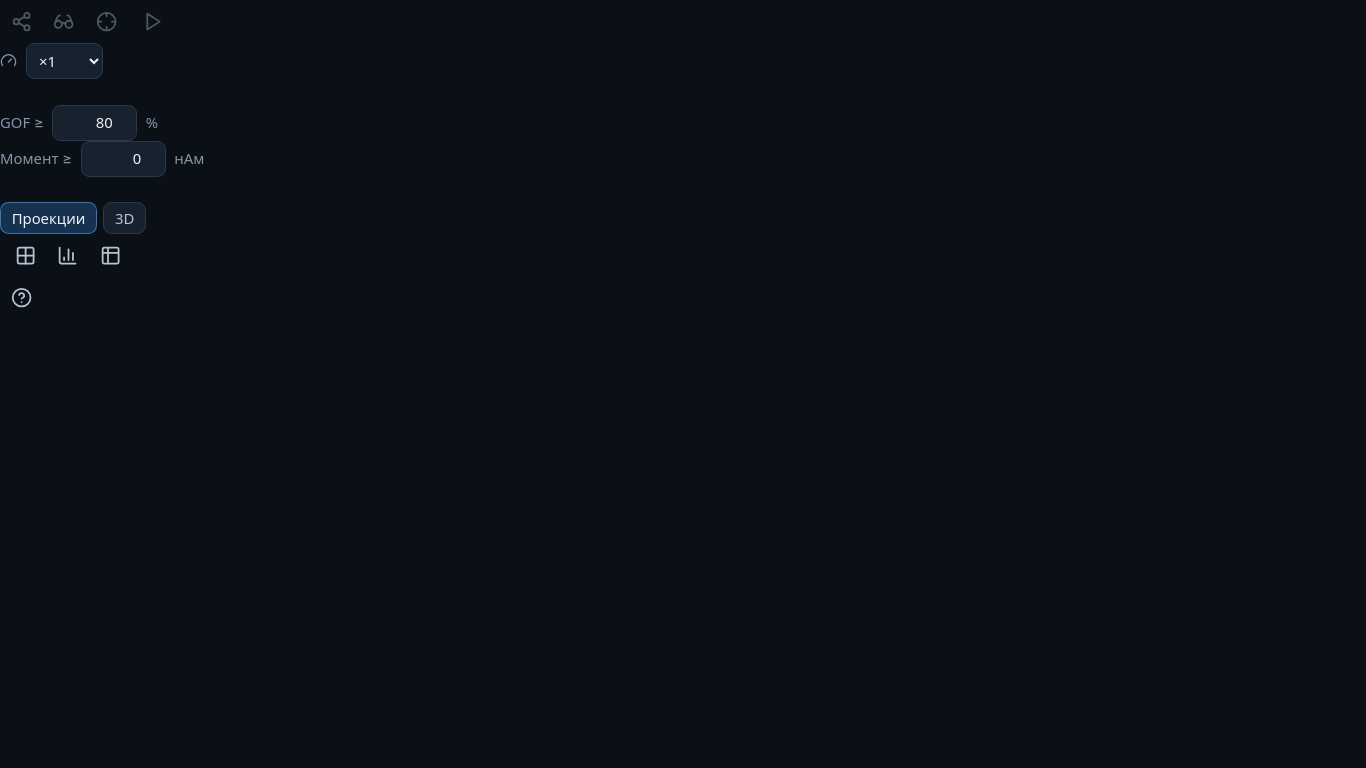
Test: тулс-хедер раздела «Диполи» › открывает справку кнопкой и закрывает её Esc — без запросов
The width and height of the screenshot is (1366, 768).
Click the button named "Справка" at (21, 298), box x1=0 y1=276 x2=42 y2=319
(page scrolled)
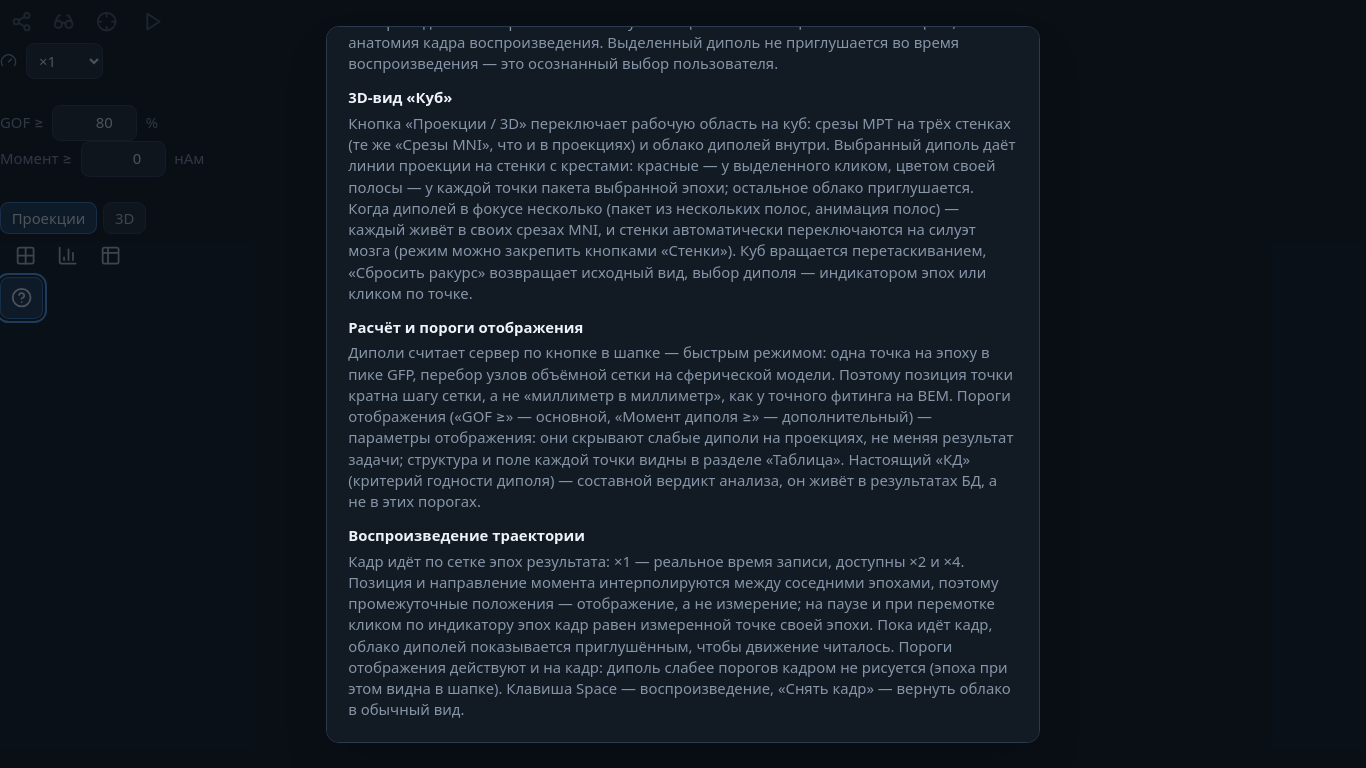
Check: the text "перебор узлов объёмной сетки" is shown, box x1=348 y1=342 x2=1014 y2=511
Check: the text "Кадр идёт по сетке эпох результата" is shown, box x1=348 y1=551 x2=1011 y2=720
Press Escape
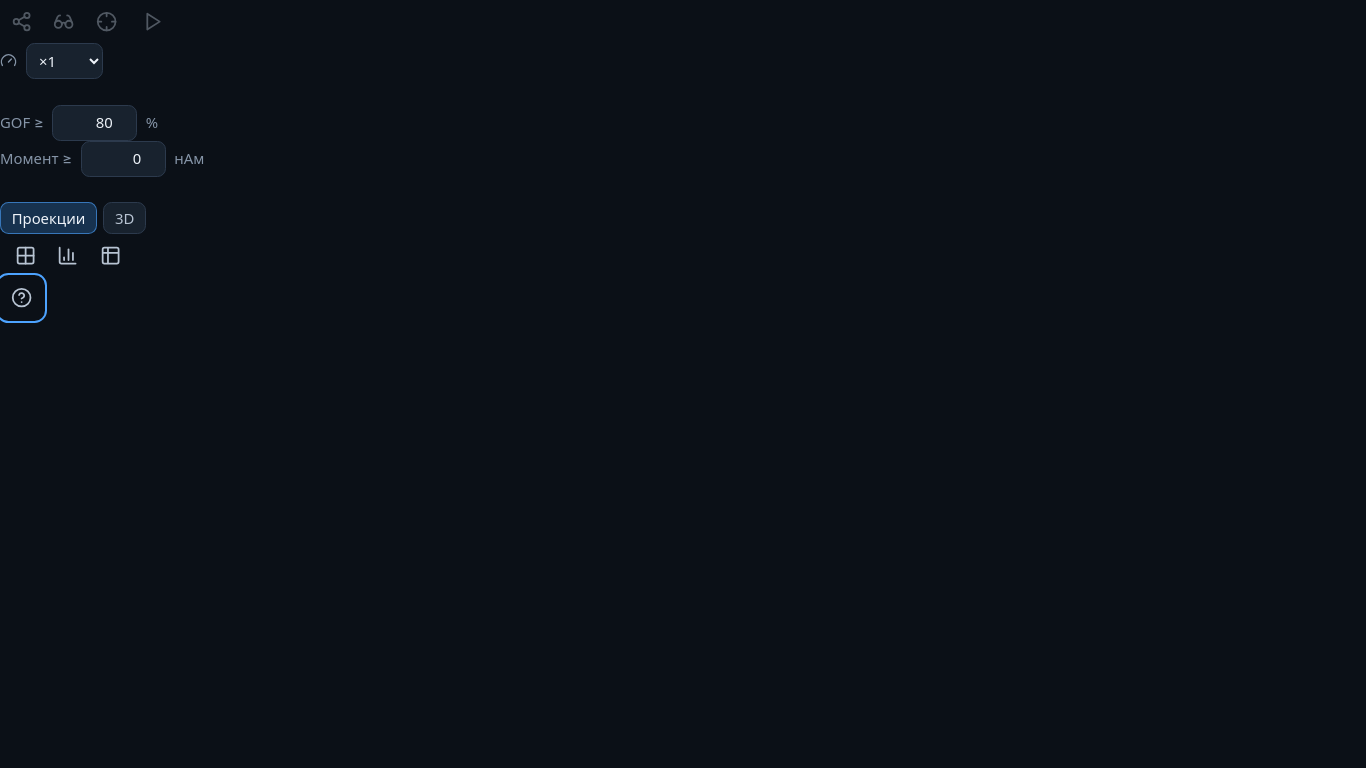
Check: the dialog with test id "dipoles-help-dialog" is gone
Note: Повторное открытие и закрытие кнопкой — тоже без запросов
Click the button named "Справка" at (21, 298), box x1=0 y1=276 x2=42 y2=319
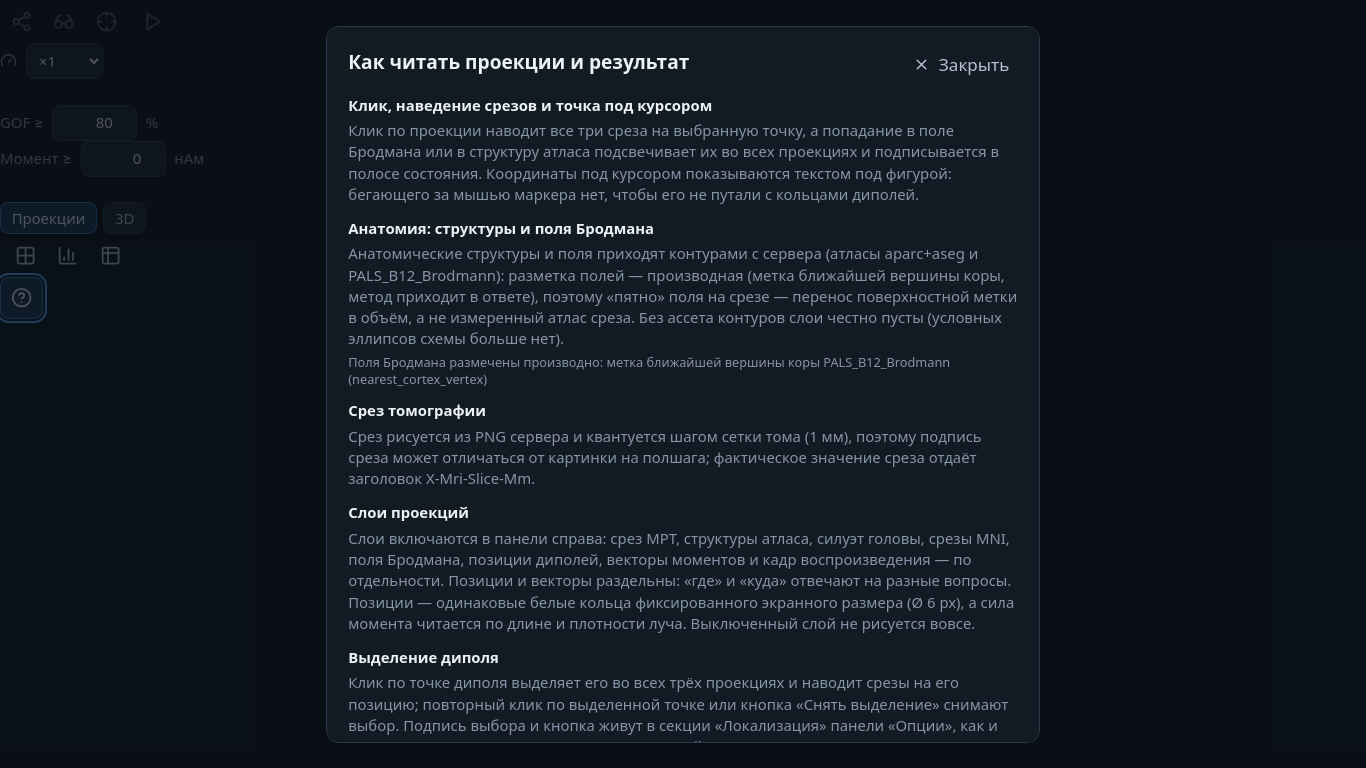
Click the button with aria-label "Закрыть справку" at (961, 65), box x1=905 y1=48 x2=1018 y2=82
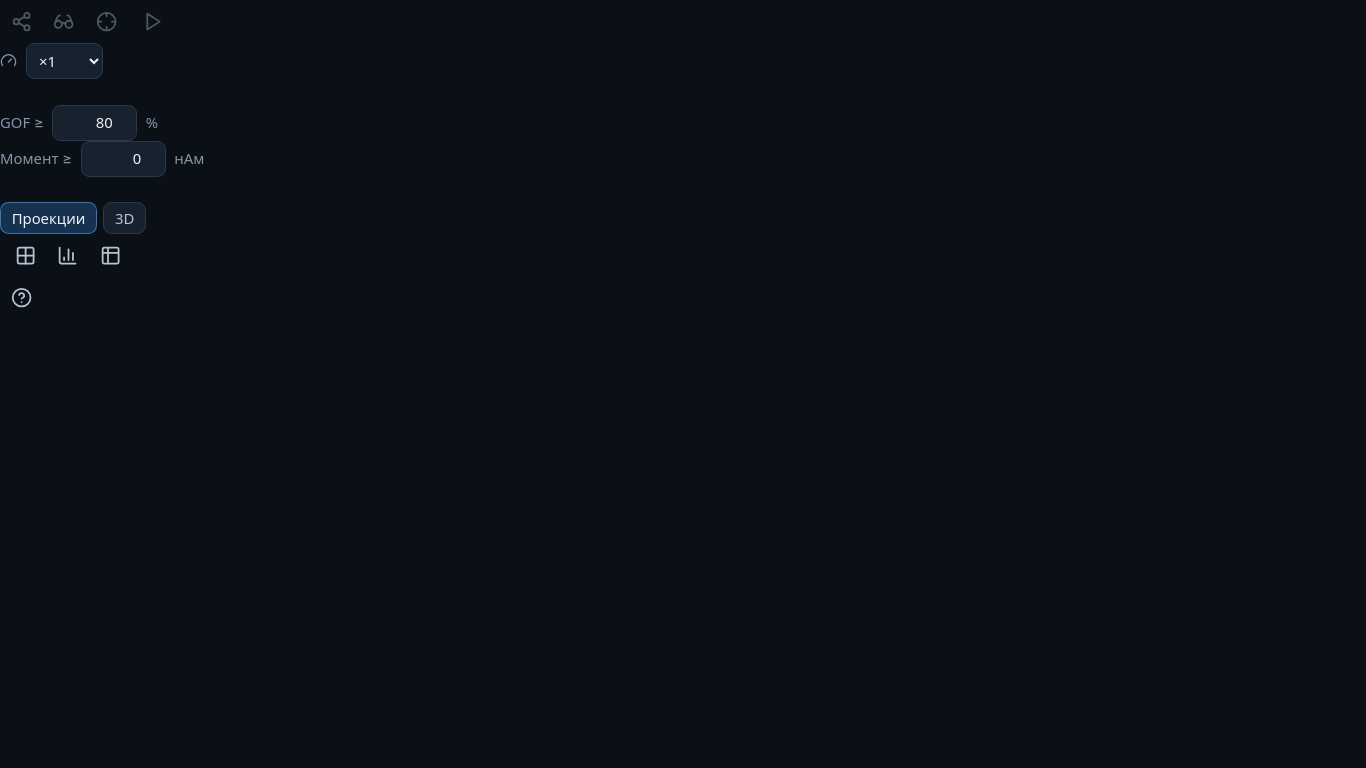
Check: the dialog with test id "dipoles-help-dialog" is gone
